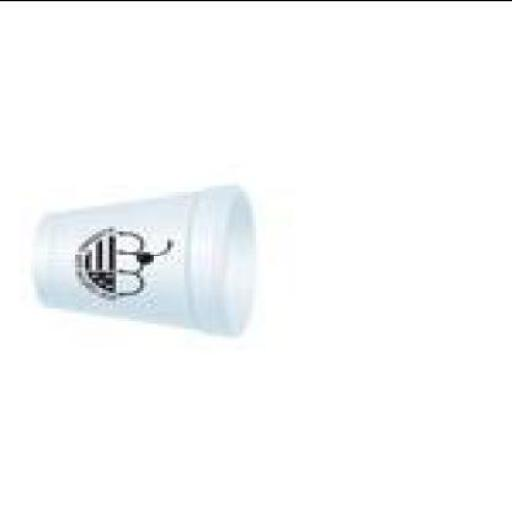paper: (38, 190, 259, 340)
